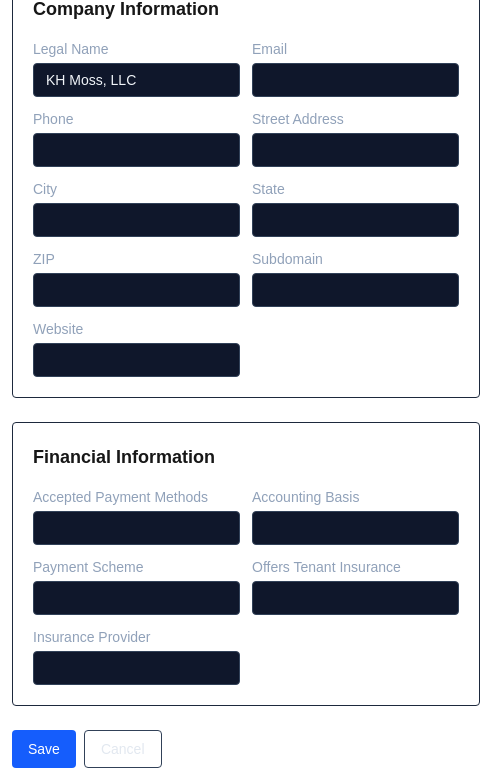
it: CompanyInfoForm › shows a server error and does not report success
(page scrolled)
Click the button "Save" at (44, 749), box [12,730,76,767]
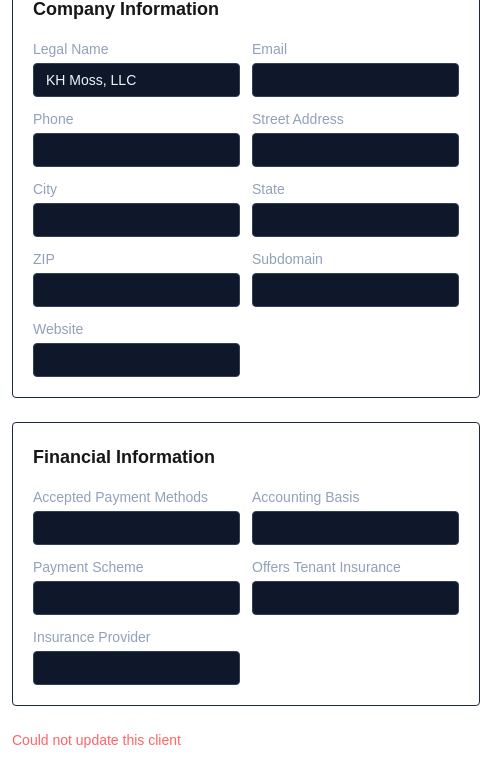
Now the message reads "Could not update this client", box [12,732,181,748]
